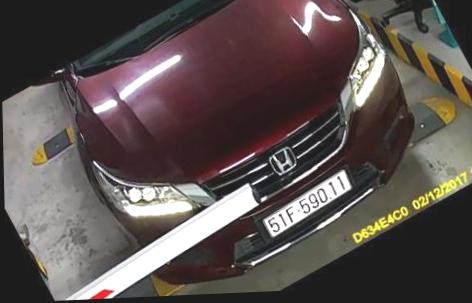License_Plate: (252, 172, 363, 239)
